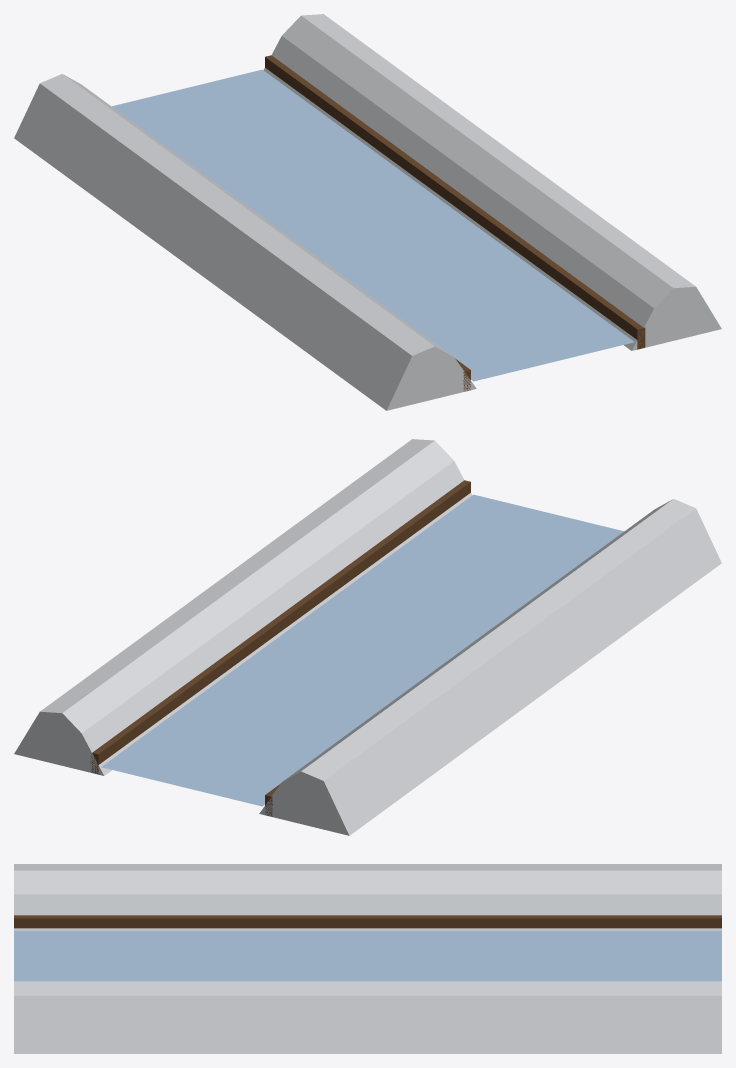
The model's file is tubing-lane.glb.
The picture shows the model from 3 angles, top to bottom: view 1: azimuth 30°, elevation 25°; view 2: azimuth 150°, elevation 25°; view 3: azimuth 270°, elevation 25°; orthographic projection. The views are drawn at different scales.
Parts seen in each view (by area): view 1: tubing-lane; view 2: tubing-lane; view 3: tubing-lane.
Boxes of the visible parts, bbox=[...] form: tubing-lane: bbox=[14, 14, 721, 410]; tubing-lane: bbox=[14, 439, 721, 835]; tubing-lane: bbox=[14, 864, 721, 1053].
Bounding box in the file's own units: 5.2 × 0.7801 × 10.
